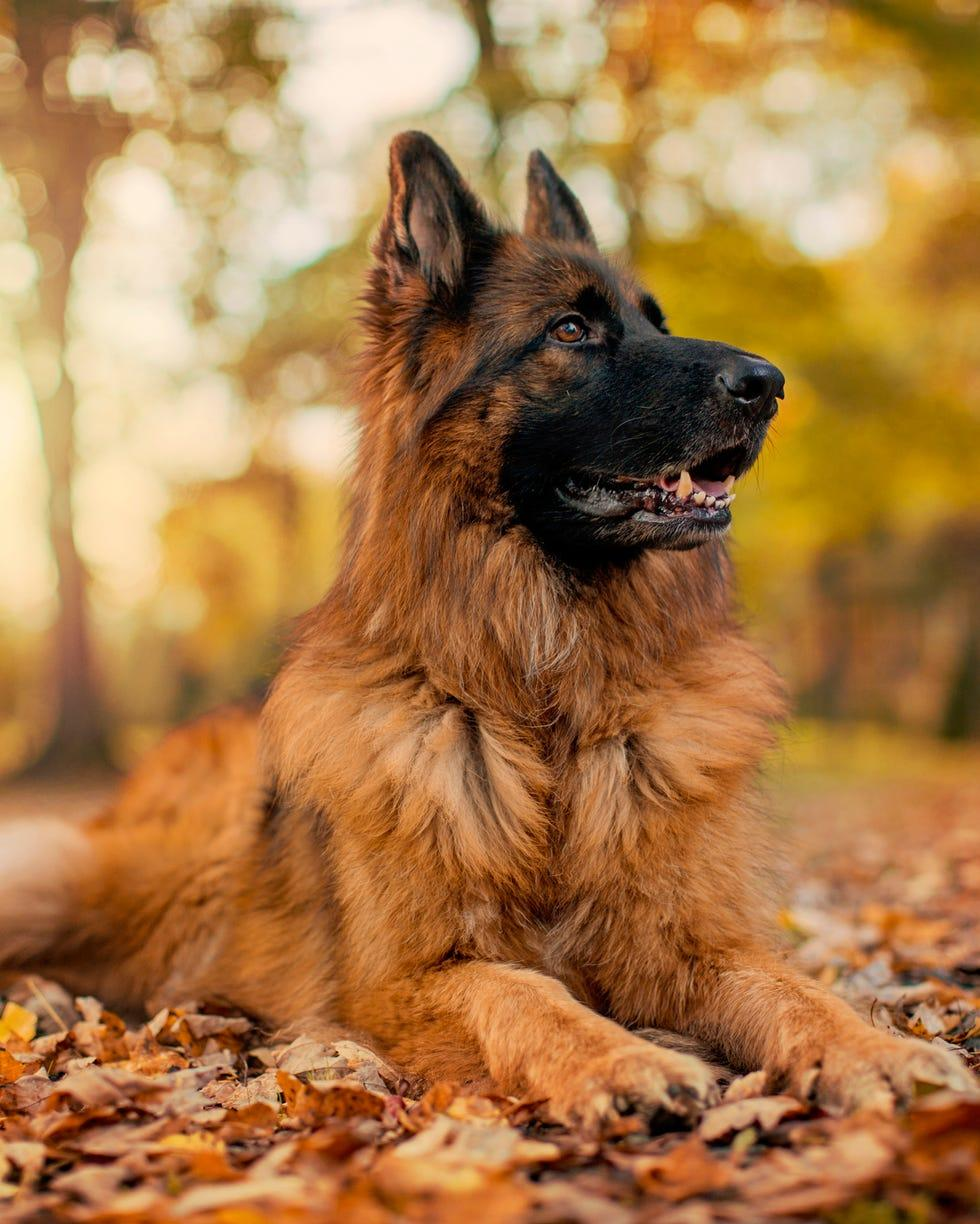german_shepherd: (362, 122, 814, 610)
